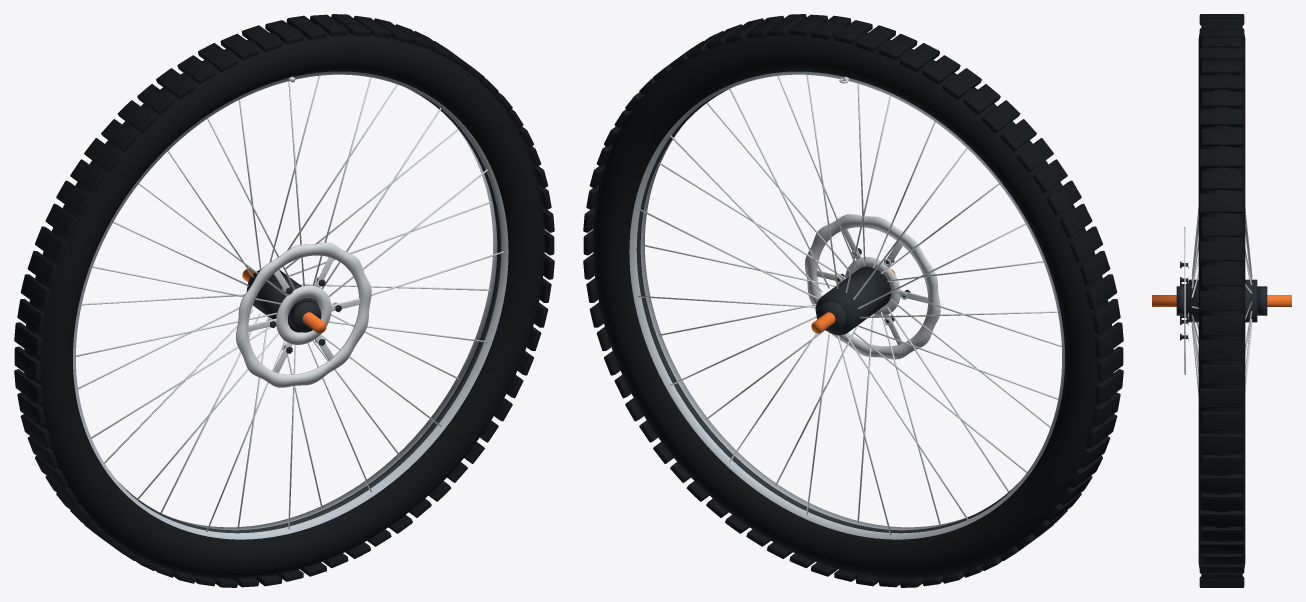
The model's file is wheel_front_LOD0.fbx.
The picture shows the model from 3 angles, left to right: view 1: azimuth 30°, elevation 25°; view 2: azimuth 150°, elevation 25°; view 3: azimuth 270°, elevation 25°; orthographic projection. The views are drawn at different scales.
Parts seen in each view (by area): view 1: MM_wheel_front_tire, MM_wheel_front_rim, MM_wheel_front_rotor, MM_wheel_front_rim_tape, MM_wheel_front_hub_shell; view 2: MM_wheel_front_tire, MM_wheel_front_rim, MM_wheel_front_rotor, MM_wheel_front_rim_tape, MM_wheel_front_hub_shell; view 3: MM_wheel_front_tire, MM_wheel_front_hub_shell, MM_wheel_front_thru_axle, MM_wheel_front_hub_end_cap_2, MM_wheel_front_hub_end_cap_1, MM_wheel_front_rotor.
Part boxes in pixels (<box>): MM_wheel_front_tire: <box>14,14,554,587</box>; MM_wheel_front_rim: <box>73,71,508,539</box>; MM_wheel_front_rotor: <box>235,242,371,387</box>; MM_wheel_front_rim_tape: <box>118,88,501,533</box>; MM_wheel_front_hub_shell: <box>246,269,319,332</box>; MM_wheel_front_tire: <box>583,14,1123,587</box>; MM_wheel_front_rim: <box>629,71,1064,539</box>; MM_wheel_front_rotor: <box>804,214,940,359</box>; MM_wheel_front_rim_tape: <box>636,89,1019,533</box>; MM_wheel_front_hub_shell: <box>815,266,891,335</box>; MM_wheel_front_tire: <box>1198,14,1245,587</box>; MM_wheel_front_hub_shell: <box>1186,279,1257,322</box>; MM_wheel_front_thru_axle: <box>1152,295,1291,306</box>; MM_wheel_front_hub_end_cap_2: <box>1257,286,1267,315</box>; MM_wheel_front_hub_end_cap_1: <box>1176,286,1186,315</box>; MM_wheel_front_rotor: <box>1184,227,1185,374</box>.
Bounding box in the file's own units: 0.698 × 0.698 × 0.17.
